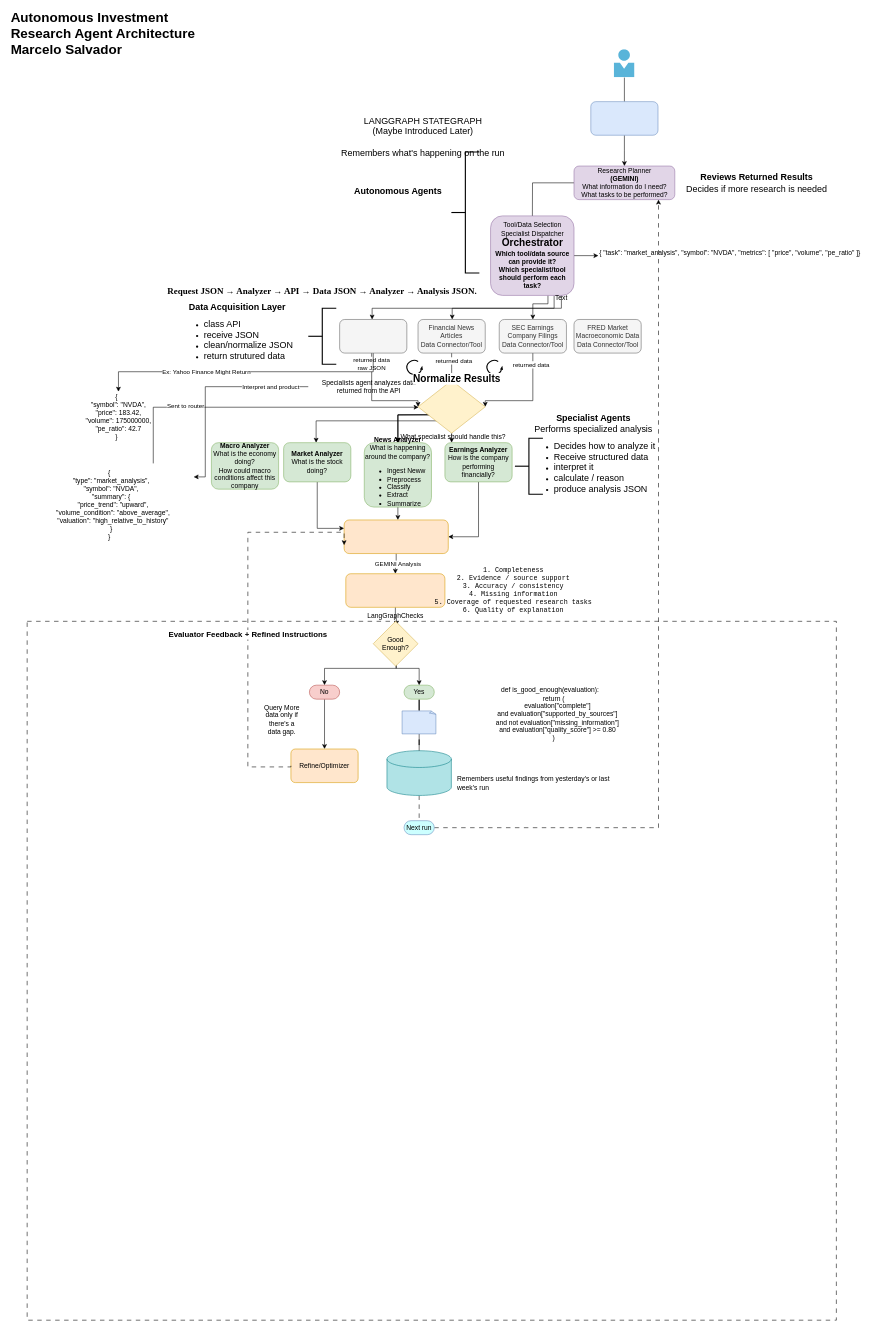
Some shapes in this 884 by 1330 pixel diagram are drawn without their labels. The box of each missing label's shape, as (x1, y1, x2, y2) in pixels:
Analysis Generator Combine All Findings: (344, 519, 448, 554)
Data Router: (417, 380, 485, 433)
Evaluator (GEMINI) Check quality, sources, completeness, accuracy: (345, 573, 445, 607)
Final Report: (402, 710, 436, 734)
Memory JSON/SQL LITE Notes/Lessons: (386, 750, 451, 795)
Stock Symbol: (590, 101, 658, 135)
Yahoo Finance Prices/Ratios Data Connector/Tool: (339, 319, 407, 353)
